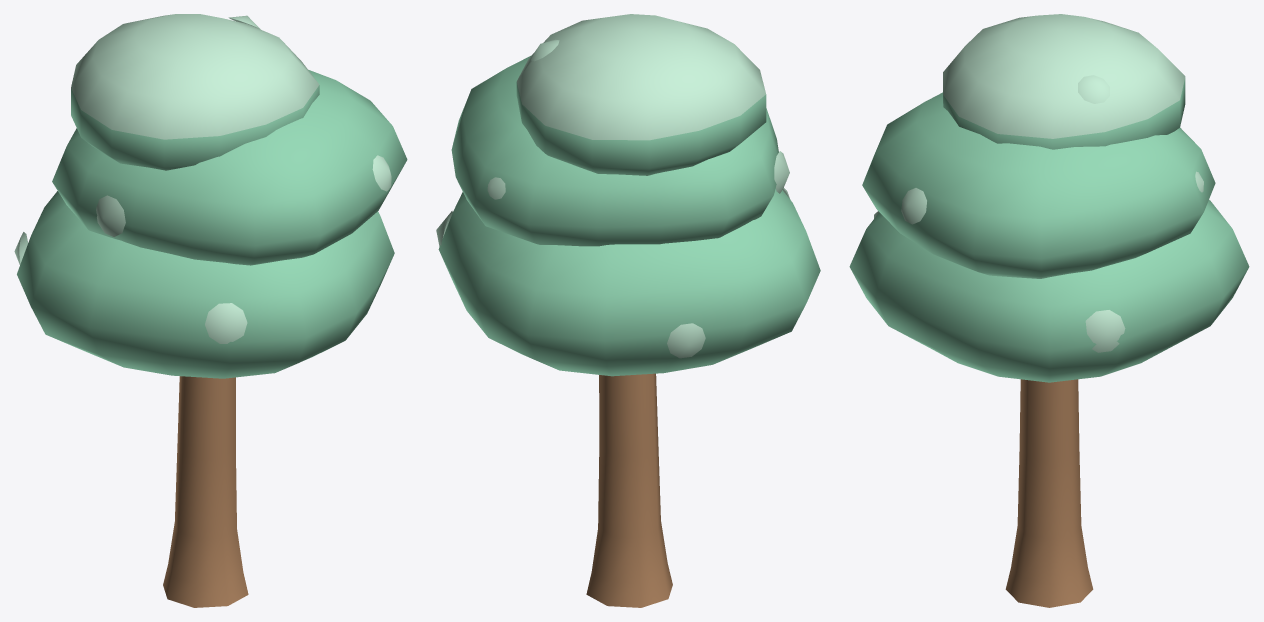
Rendered from tree_round.fbx.
3 views of the same model, side by side, from view 1: azimuth 30°, elevation 25°; view 2: azimuth 150°, elevation 25°; view 3: azimuth 270°, elevation 25° (orthographic). The views are drawn at different scales.
Parts seen in each view (by area): view 1: tree_round; view 2: tree_round; view 3: tree_round.
Boxes of the visible parts, bbox=[...] form: tree_round: bbox=[14, 14, 407, 607]; tree_round: bbox=[436, 14, 820, 607]; tree_round: bbox=[849, 14, 1249, 607].
Bounding box in the file's own units: 3.01 × 4.6 × 3.01.
